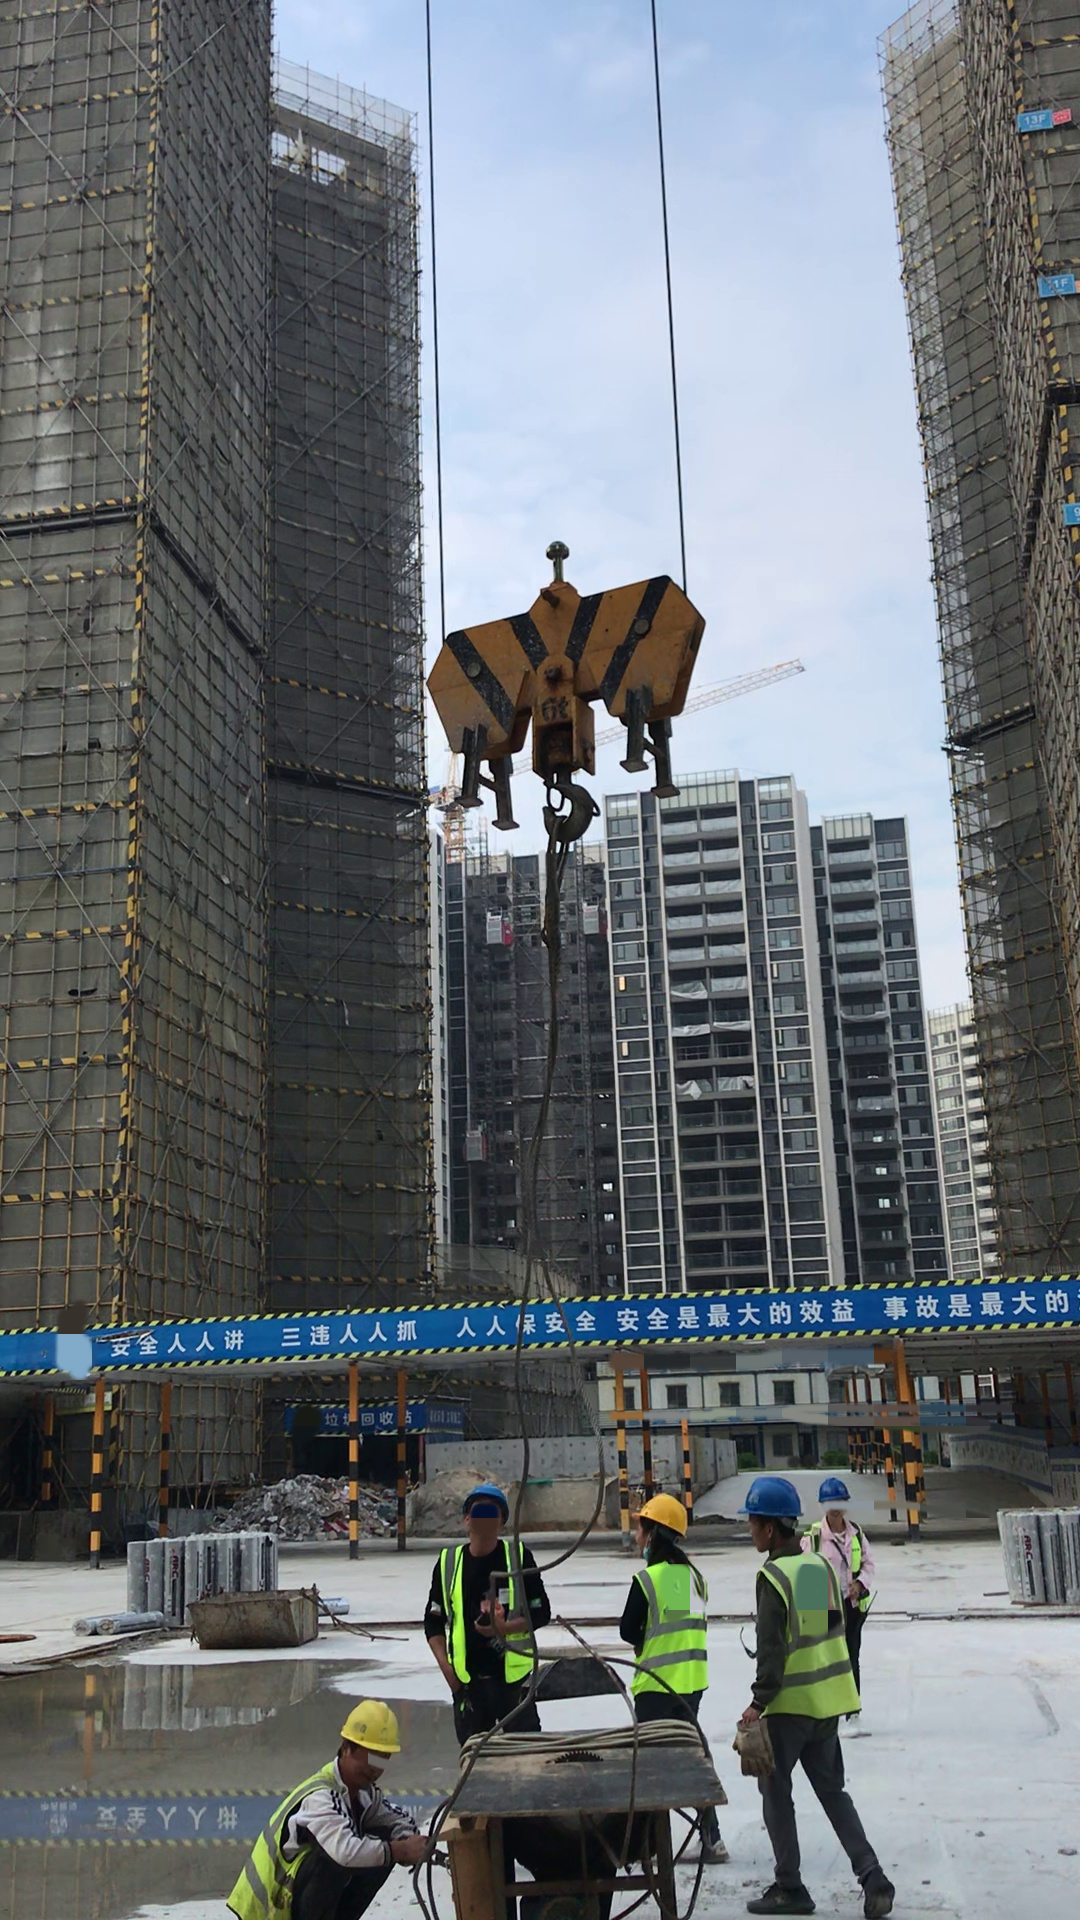helmet: (334, 1695, 416, 1759), (736, 1468, 810, 1531), (460, 1465, 524, 1513), (631, 1484, 688, 1531), (809, 1461, 864, 1505)
person: (736, 1488, 889, 1920), (218, 1686, 408, 1920), (428, 1468, 552, 1744), (605, 1494, 727, 1723), (820, 1472, 886, 1647)
vest: (241, 1765, 393, 1920), (749, 1541, 863, 1727), (436, 1536, 550, 1668), (624, 1538, 703, 1708)
